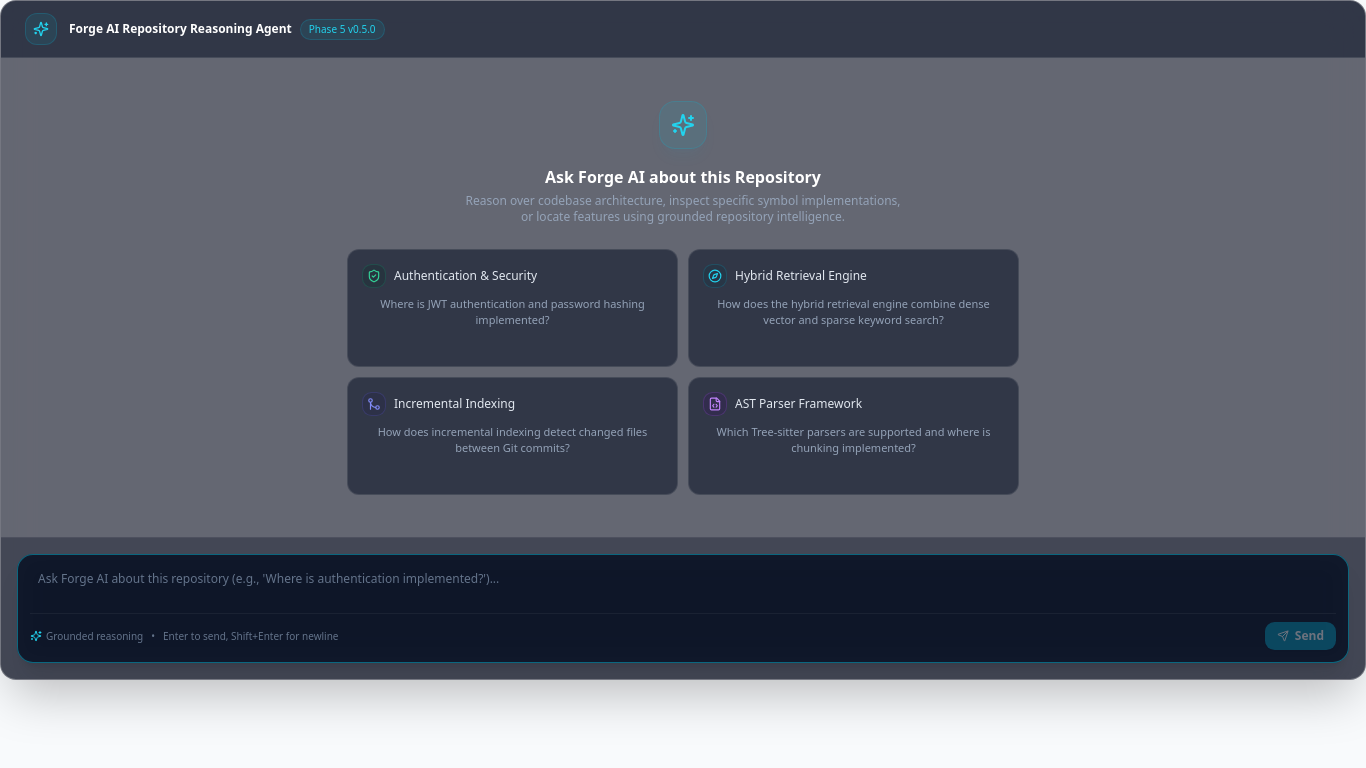
Test: Agent Chat UI & Component Integration › renders user-friendly error on agent API failure
The width and height of the screenshot is (1366, 768).
Replace the text in the text box with placeholder "Ask Forge AI about this repository" with "Unauthorized query": (683, 587) [30,567,1336,607]
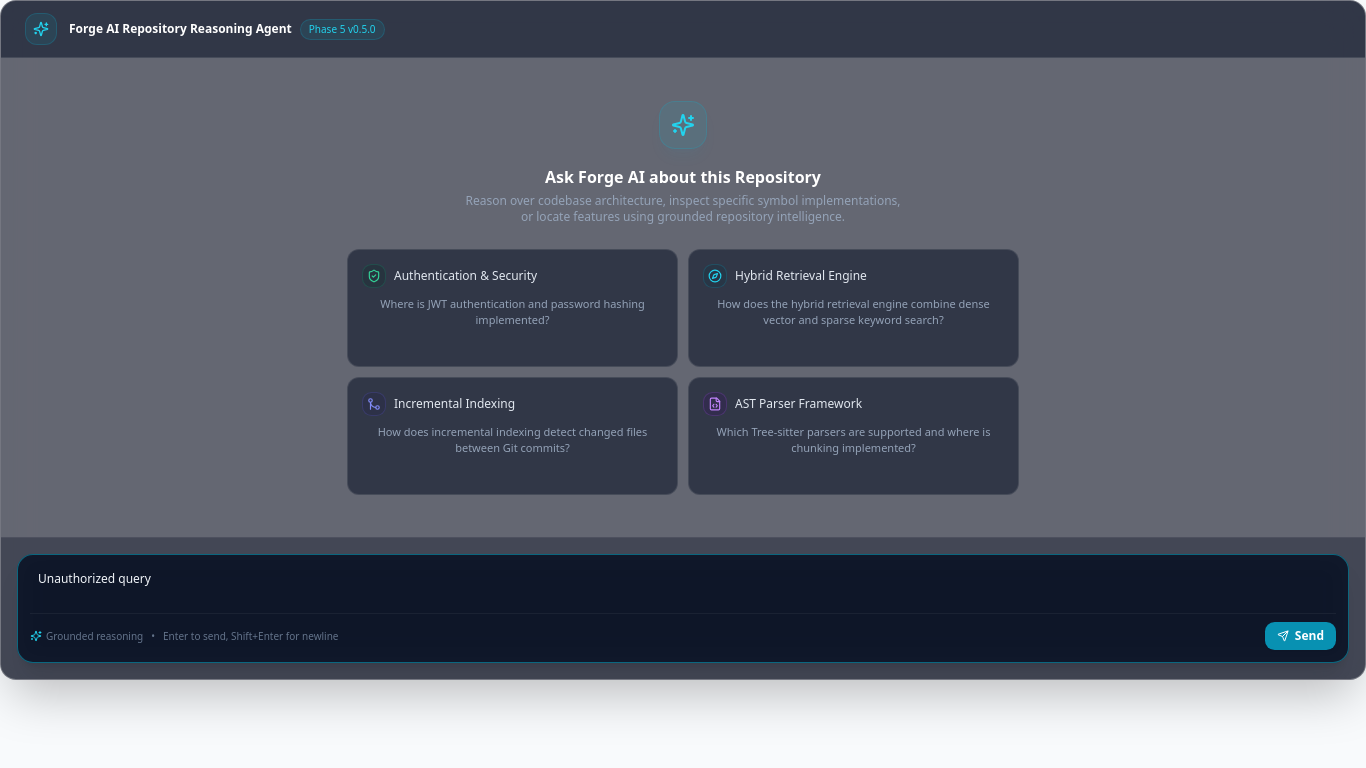
Click the button with aria-label "Send message to agent": (1300, 636) [1265,622,1336,650]
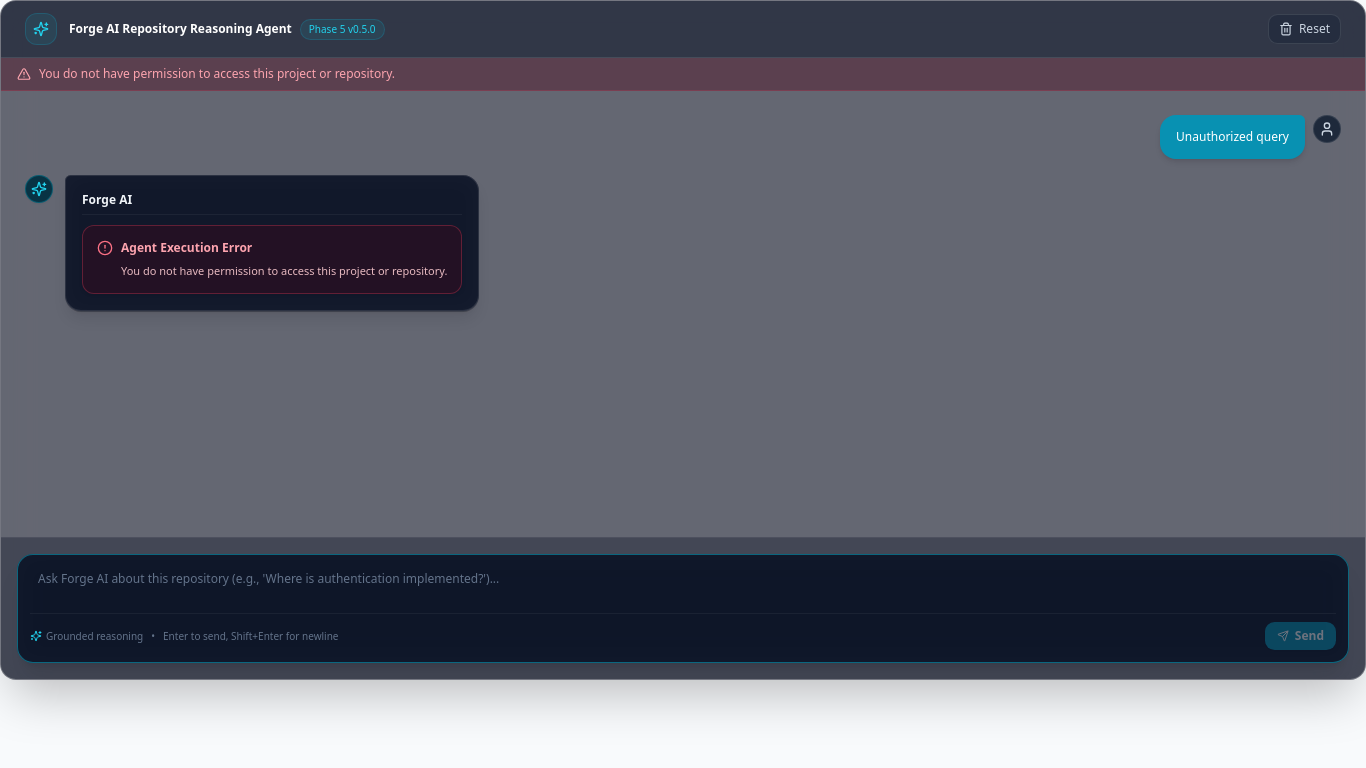
Expected: the 1st text "You do not have permission to access this project or repository." is shown, [39,66,395,82]
